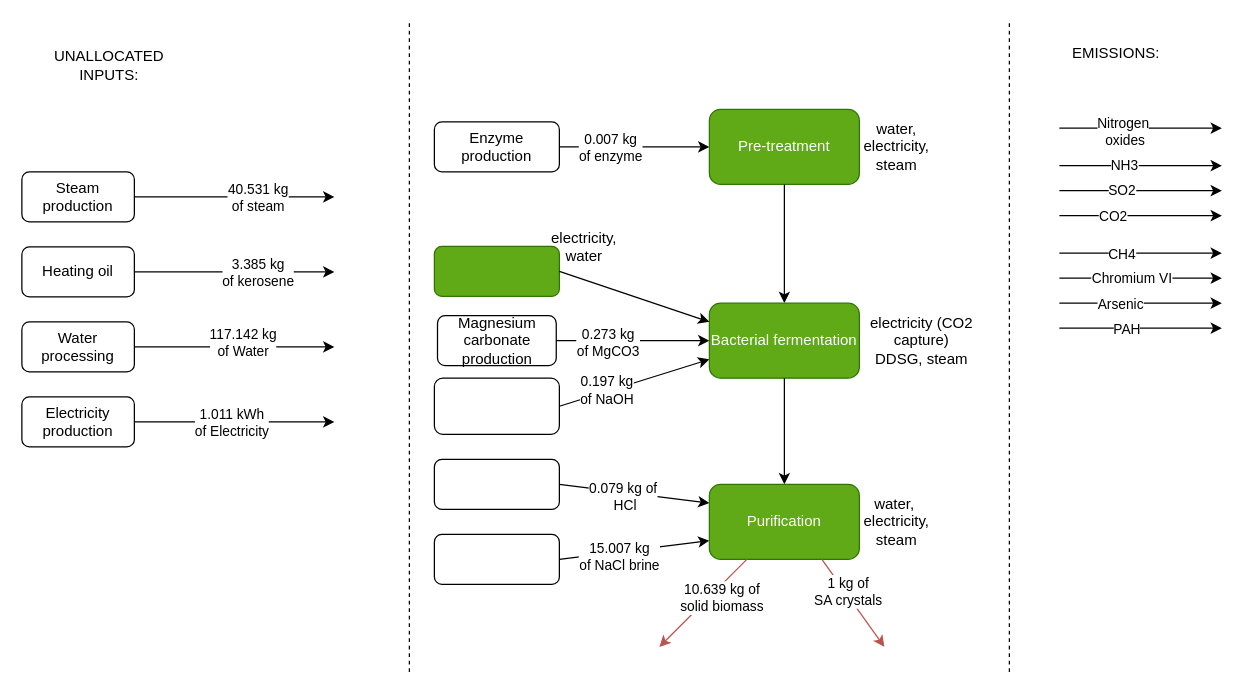
Image size: 1254x695. Some labels were removed from this diagram. Each missing label, with the centre of its shape:
"E. coli propagation" belongs at (496,270).
"Hydrochloric acid production" belongs at (496,483).
"NaCl brine production" belongs at (496,558).
"Sodium hydroxide production" belongs at (496,405).
